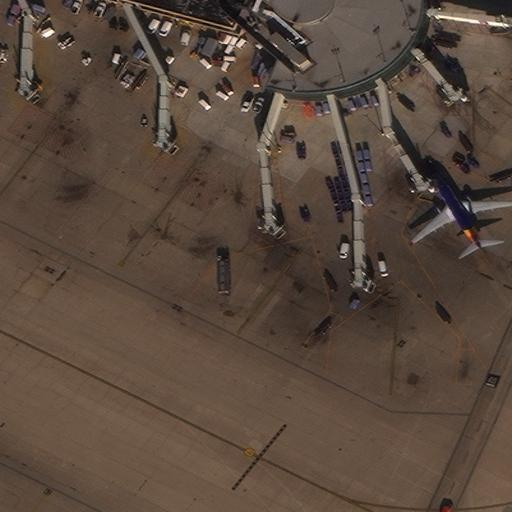Medium Civil Transport: (410, 172, 511, 248)
